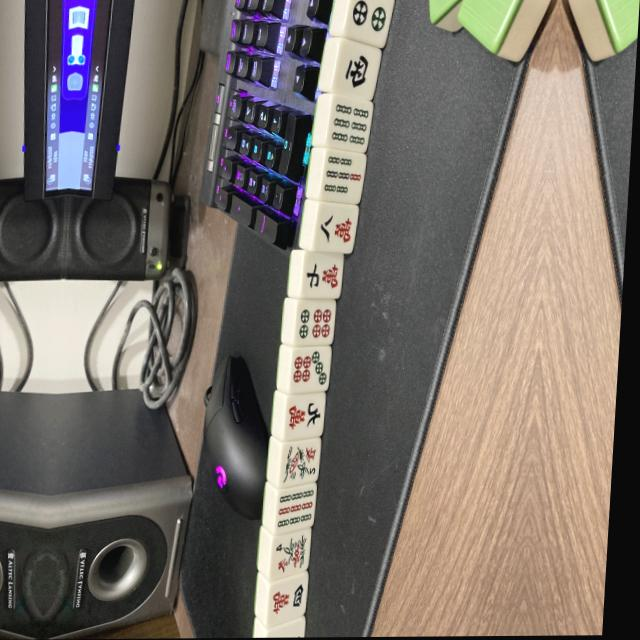ff2: (278, 440, 319, 486)
ff4: (270, 532, 311, 580)
m4: (265, 577, 306, 627)
m7: (303, 254, 343, 298)
m8: (312, 207, 358, 255)
m9: (283, 395, 324, 438)
s6: (326, 97, 373, 151)
s7: (320, 152, 366, 202)
s9: (273, 486, 315, 532)
t2: (342, 0, 392, 45)
t6: (292, 300, 334, 344)
t7: (289, 348, 331, 393)
west: (332, 41, 381, 99)
